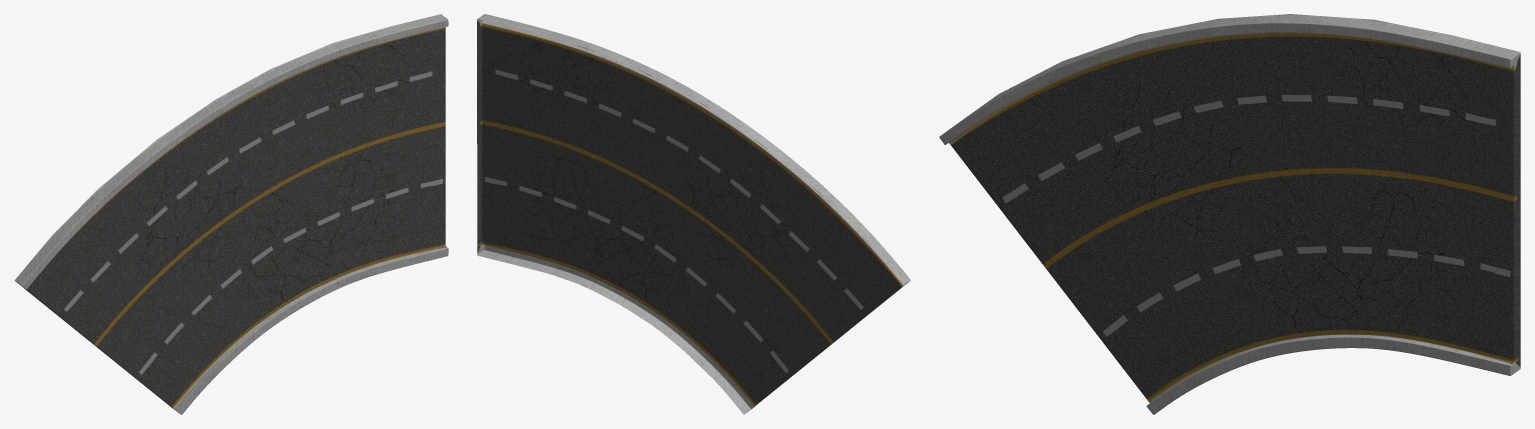
The model's file is 10560_Road_Section_-_45_degree_curve_v2-L3.obj.
3 renders of one model, left to right at view 1: azimuth 30°, elevation 25°; view 2: azimuth 150°, elevation 25°; view 3: azimuth 330°, elevation 25°, orthographic. The views are drawn at different scales.
Visible parts, largest first — view 1: Road_Section_45DegreeCurve; view 2: Road_Section_45DegreeCurve; view 3: Road_Section_45DegreeCurve.
Boxes of the visible parts, <box> form: Road_Section_45DegreeCurve: <box>14,14,448,414</box>; Road_Section_45DegreeCurve: <box>477,14,910,414</box>; Road_Section_45DegreeCurve: <box>939,14,1520,414</box>.
Size of the model in its own units: 1364 by 1010 by 40.56.
Materials: 1 (1 with a texture image).
